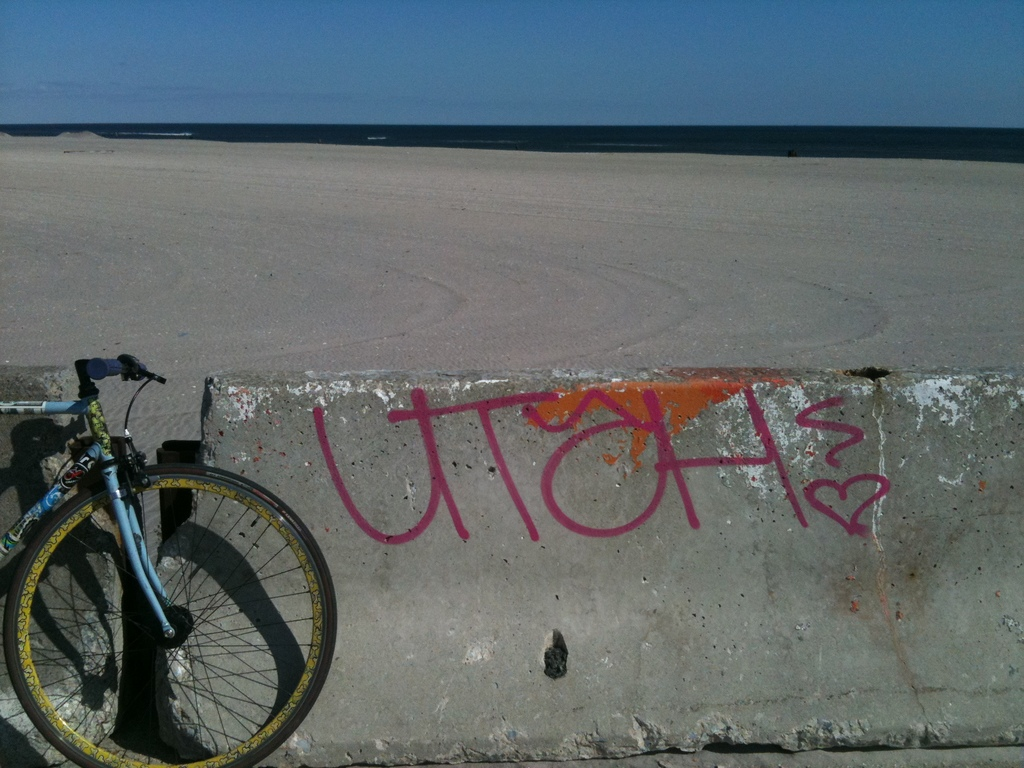bicycle: (0, 326, 355, 757)
